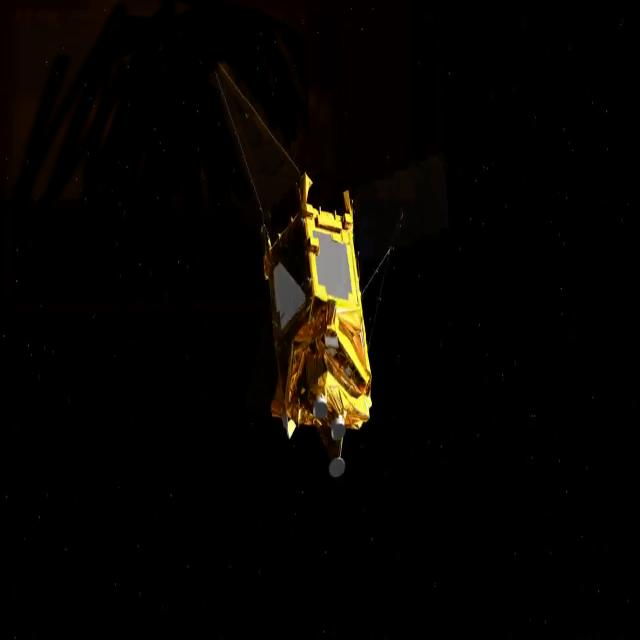medium_debris: (225, 112, 388, 525)
